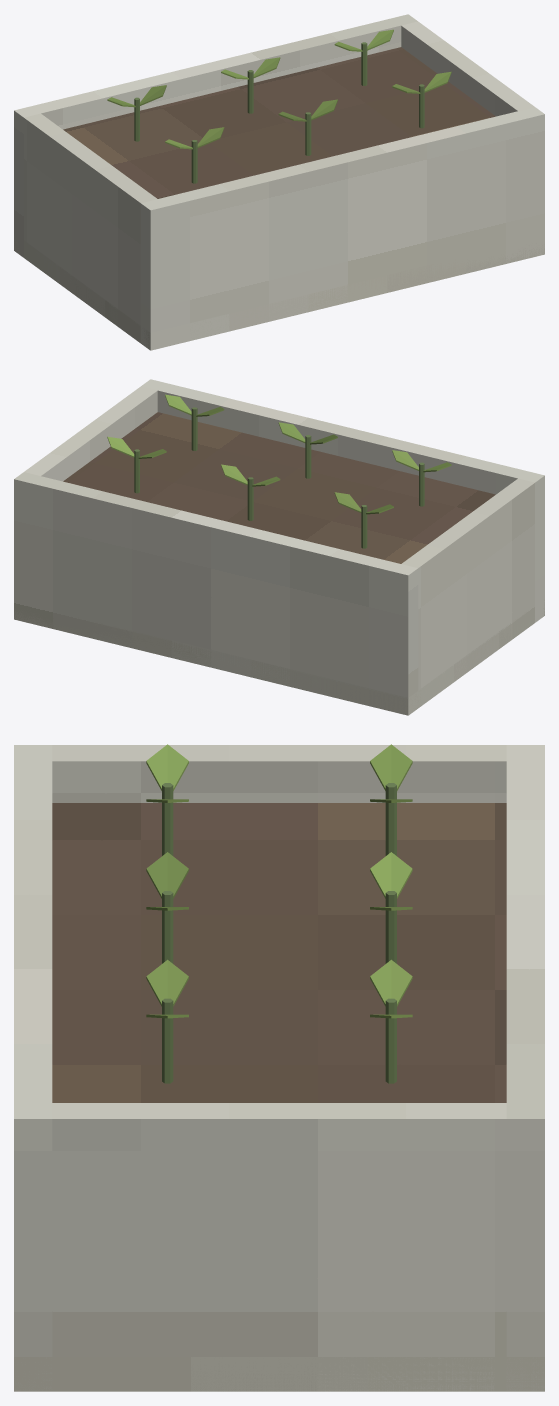
The model's file is foam-seedlings.glb.
3 views of the same model, one above another, from view 1: azimuth 30°, elevation 25°; view 2: azimuth 150°, elevation 25°; view 3: azimuth 270°, elevation 25° (orthographic). The views are drawn at different scales.
Visible parts, largest first — view 1: foam-seedlings/foam-long-wall--1, foam-seedlings/filled-soil, foam-seedlings/foam-end-wall--1, foam-seedlings/foam-long-wall-1, foam-seedlings/foam-floor, foam-seedlings/foam-end-wall-1; view 2: foam-seedlings/foam-long-wall-1, foam-seedlings/filled-soil, foam-seedlings/foam-end-wall--1, foam-seedlings/foam-long-wall--1, foam-seedlings/foam-floor, foam-seedlings/foam-end-wall-1; view 3: foam-seedlings/filled-soil, foam-seedlings/foam-end-wall-1, foam-seedlings/foam-long-wall-1, foam-seedlings/foam-long-wall--1, foam-seedlings/foam-end-wall--1, foam-seedlings/foam-floor, foam-seedlings/seedling-leaf-2-0--1, foam-seedlings/seedling-leaf-2-1--1, foam-seedlings/seedling-leaf-1-0--1, foam-seedlings/seedling-leaf-1-1--1, foam-seedlings/seedling-leaf-0-0--1, foam-seedlings/seedling-leaf-0-1--1 (+6 smaller).
Part boxes in pixels (x1,y1,x2,y2): foam-seedlings/foam-long-wall--1: [140, 107, 544, 349]; foam-seedlings/filled-soil: [63, 47, 495, 198]; foam-seedlings/foam-end-wall--1: [24, 113, 157, 341]; foam-seedlings/foam-long-wall-1: [14, 14, 417, 257]; foam-seedlings/foam-floor: [14, 234, 544, 350]; foam-seedlings/foam-end-wall-1: [401, 21, 534, 116]; foam-seedlings/foam-long-wall-1: [14, 472, 418, 715]; foam-seedlings/filled-soil: [63, 412, 495, 563]; foam-seedlings/foam-end-wall--1: [401, 478, 534, 707]; foam-seedlings/foam-long-wall--1: [141, 379, 544, 622]; foam-seedlings/foam-floor: [14, 600, 544, 715]; foam-seedlings/foam-end-wall-1: [24, 386, 157, 481]; foam-seedlings/filled-soil: [52, 803, 506, 1102]; foam-seedlings/foam-end-wall-1: [52, 1103, 506, 1391]; foam-seedlings/foam-long-wall-1: [506, 745, 544, 1390]; foam-seedlings/foam-long-wall--1: [14, 745, 52, 1391]; foam-seedlings/foam-end-wall--1: [52, 745, 506, 802]; foam-seedlings/foam-floor: [14, 1357, 544, 1391]; foam-seedlings/seedling-leaf-2-0--1: [146, 959, 188, 1006]; foam-seedlings/seedling-leaf-2-1--1: [370, 959, 412, 1006]; foam-seedlings/seedling-leaf-1-0--1: [146, 852, 188, 898]; foam-seedlings/seedling-leaf-1-1--1: [370, 852, 412, 898]; foam-seedlings/seedling-leaf-0-0--1: [146, 744, 188, 790]; foam-seedlings/seedling-leaf-0-1--1: [370, 744, 412, 790].
Bounding box in the file's own units: 0.625 × 0.253 × 0.375.
Materials: 4 (4 with a texture image).
